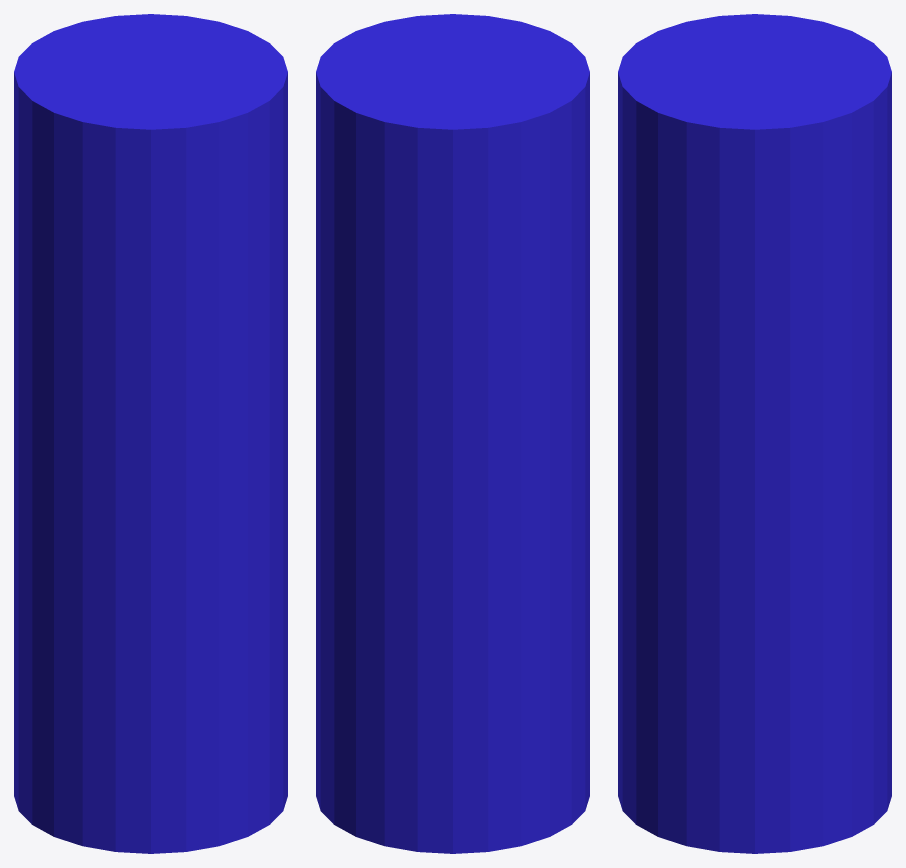
Rendered from hider_standing_body.glb.
The picture shows the model from 3 angles, left to right: view 1: azimuth 30°, elevation 25°; view 2: azimuth 150°, elevation 25°; view 3: azimuth 270°, elevation 25°; orthographic projection.
Parts seen in each view (by area): view 1: Cylinder; view 2: Cylinder; view 3: Cylinder.
Boxes of the visible parts, box(x1,y1,x2,y2) form: Cylinder: box(14, 14, 287, 853); Cylinder: box(316, 14, 589, 853); Cylinder: box(618, 14, 891, 853).
Size of the model in its own units: 0.6 by 1.75 by 0.6.
